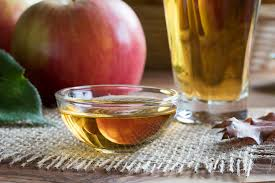apple: (17, 2, 148, 94)
